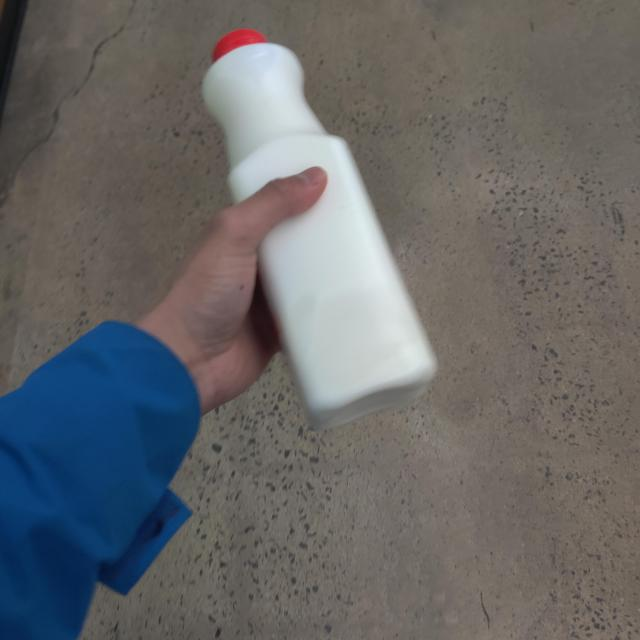Milk: (203, 29, 440, 411)
